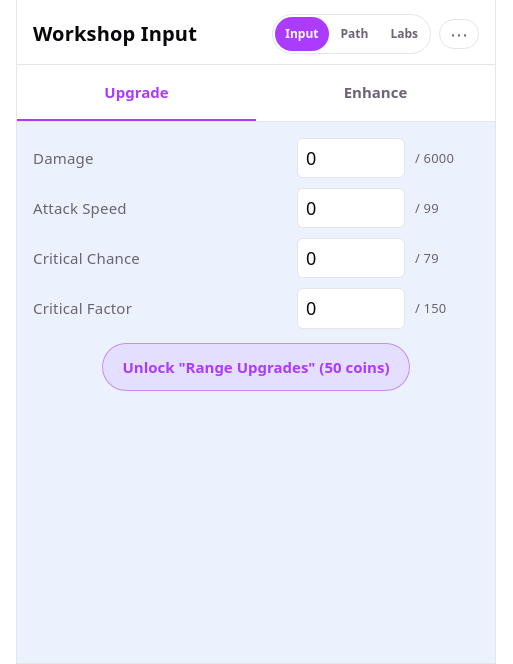
App › reflects a level entered on the Upgrade screen in the Path ranking (OQ-17)
This screenshot has width=513, height=664.
Replace the text in the number field labelled "Attack Speed" with "1" at coordinates (351, 208), box [297,188,405,228]
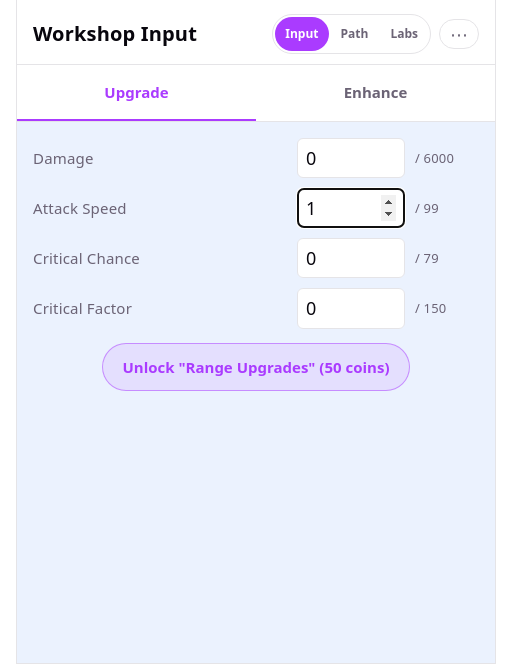
Click the tab "Path" at coordinates (354, 34), box [330,17,378,51]
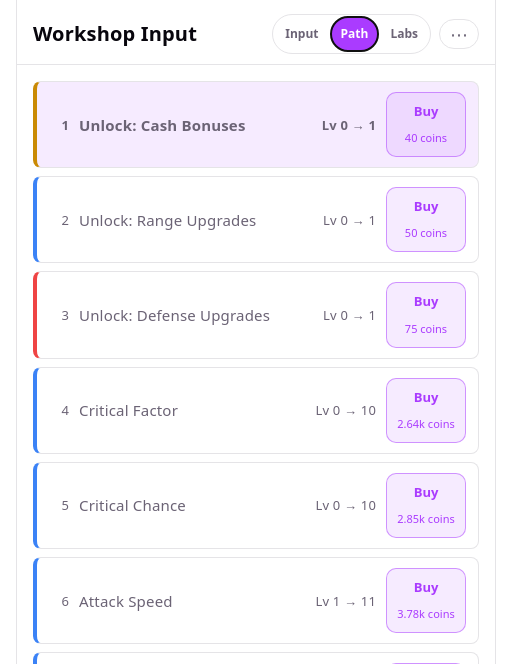
Now the list item "Attack Speed" shows "Lv 1 → 11", box [33,557,479,644]
